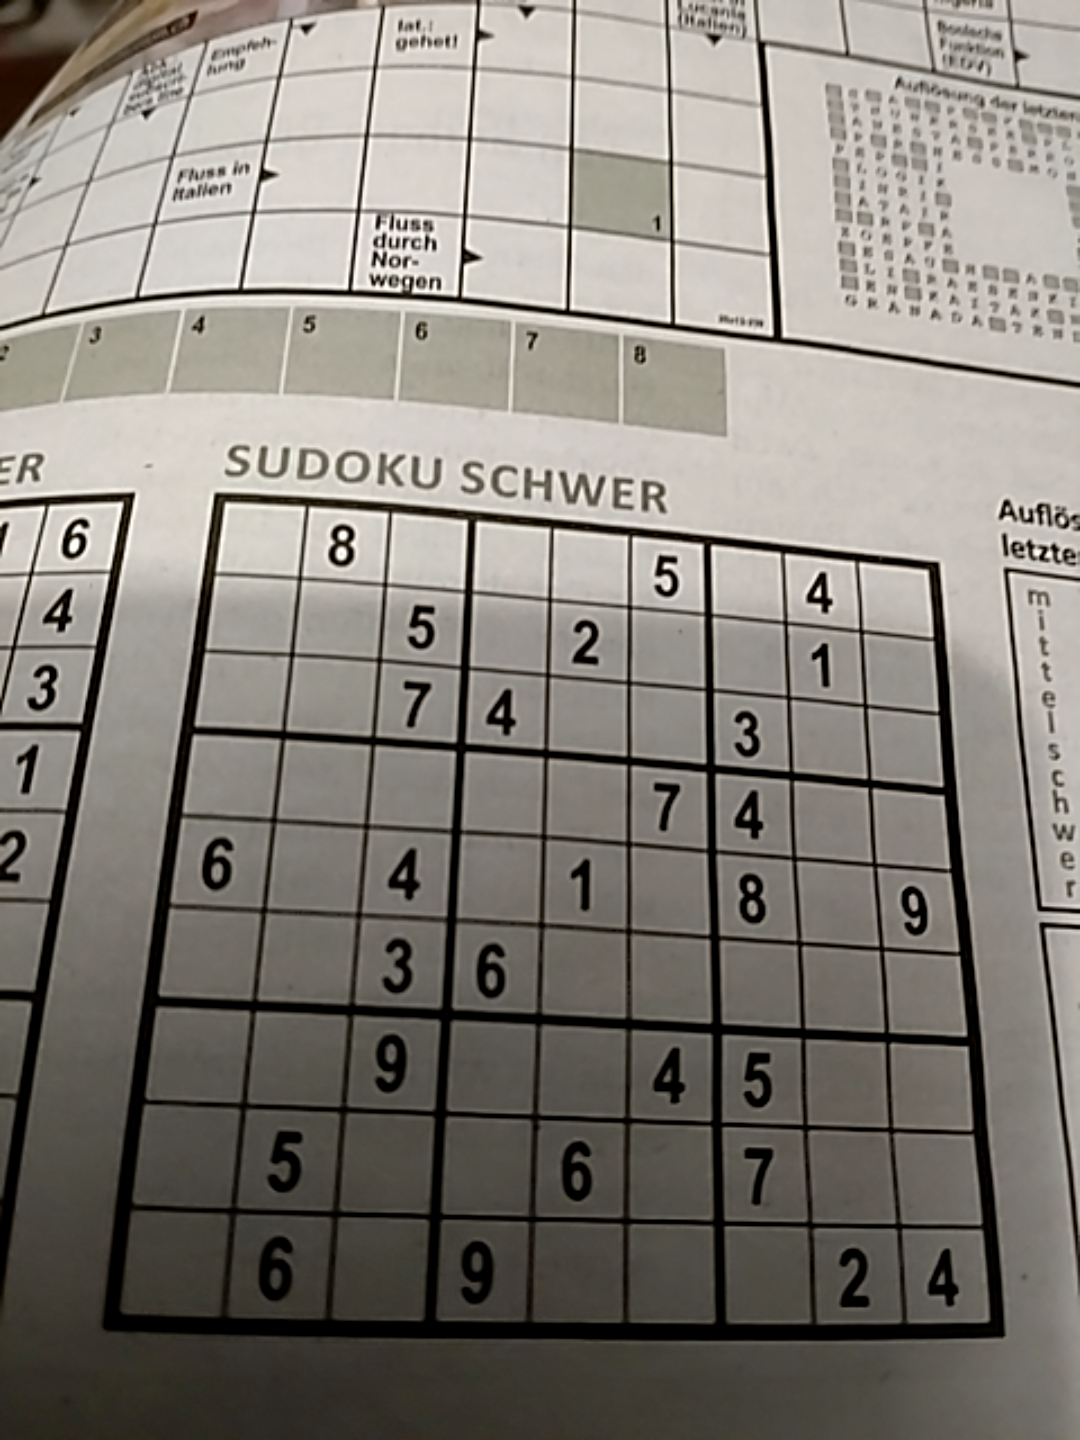sudoku: (92, 484, 1013, 1345)
